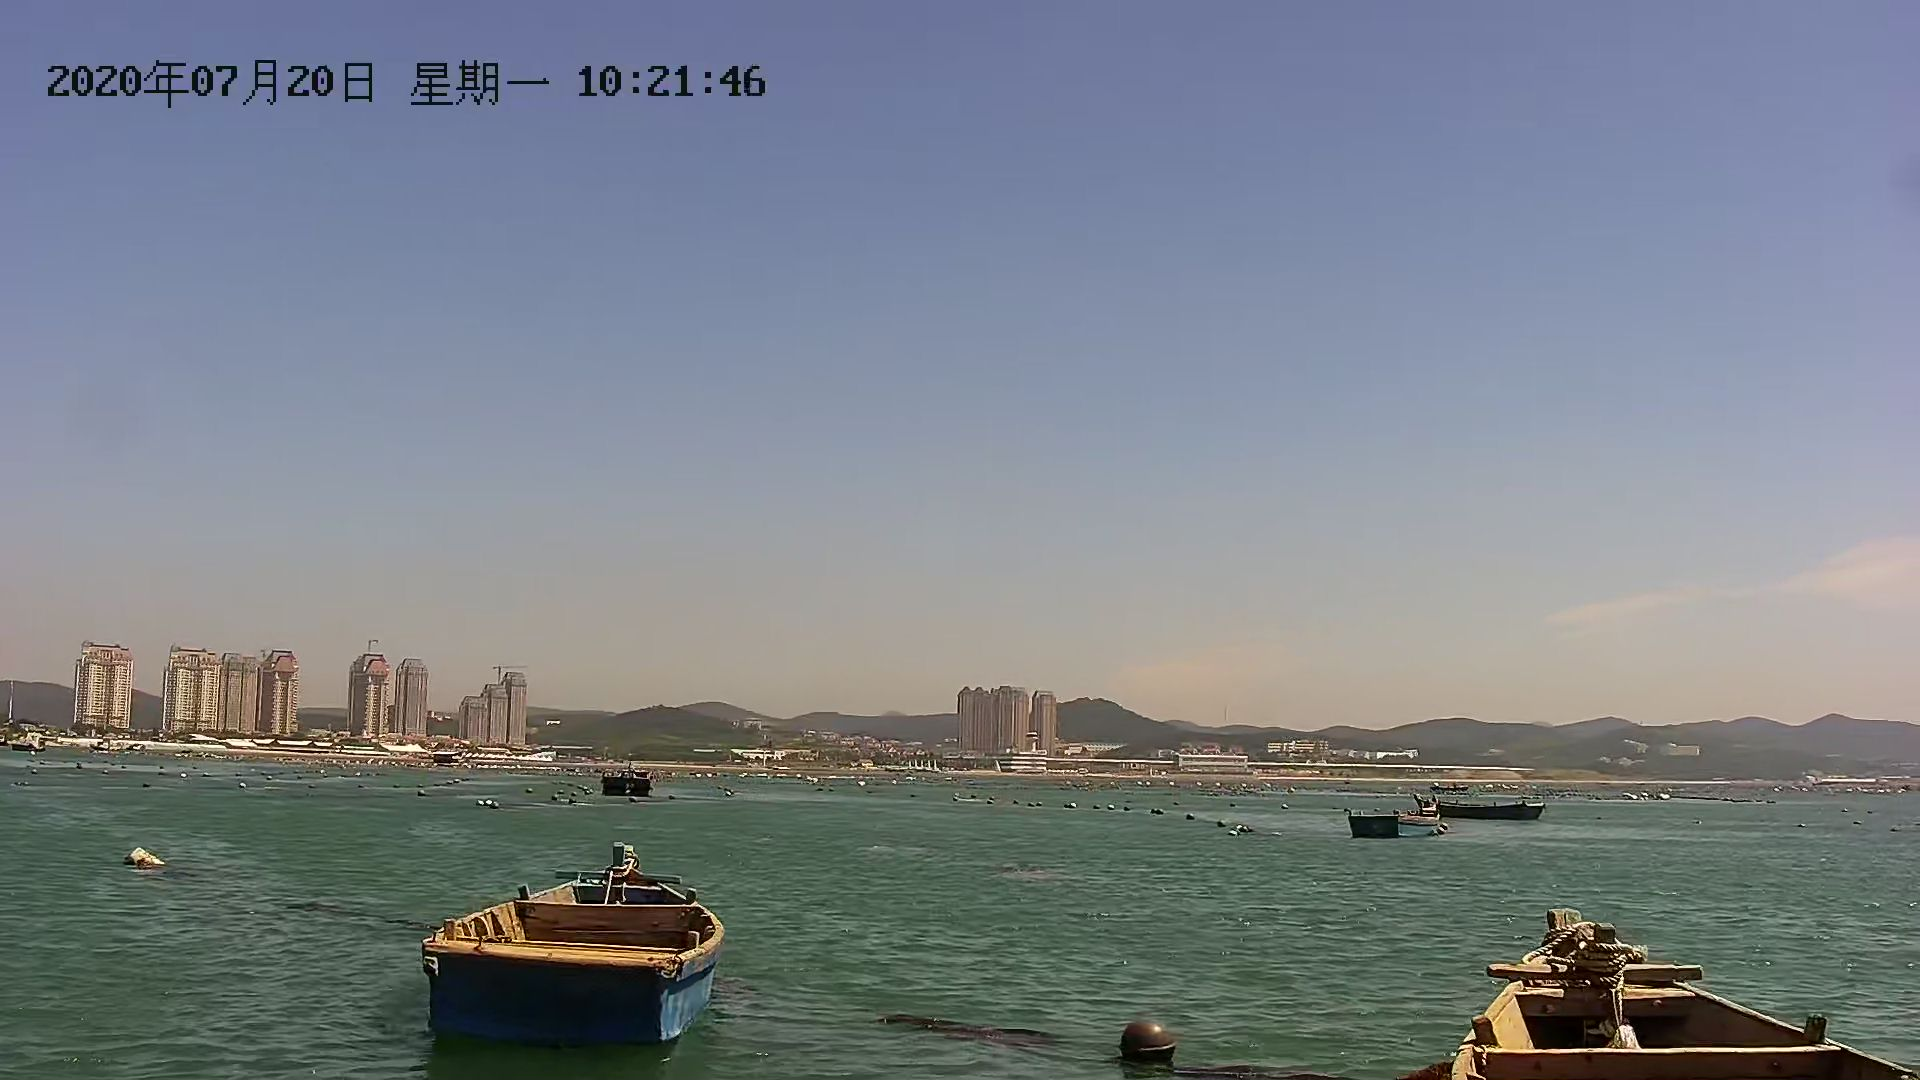boat: (1422, 916, 1917, 1080), (411, 856, 723, 1048), (1429, 794, 1548, 829), (1346, 804, 1452, 844), (592, 764, 662, 798)
rubbish: (120, 845, 167, 870)
